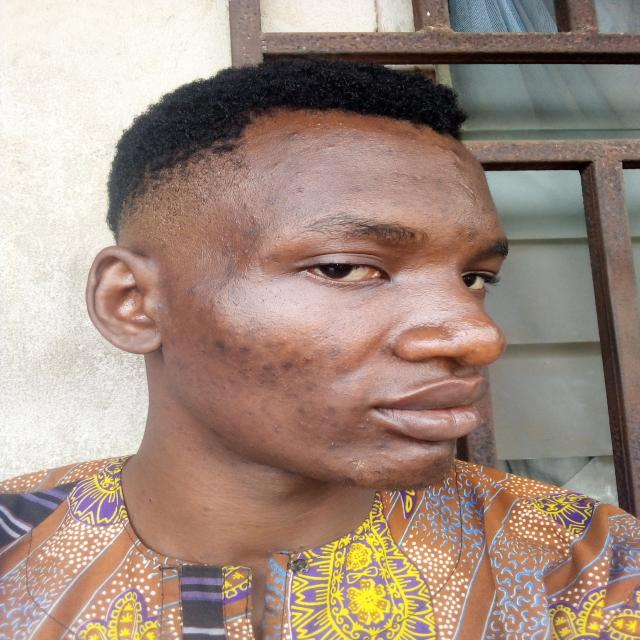Acne: (235, 210, 283, 236), (254, 355, 311, 373), (434, 142, 465, 172), (208, 338, 256, 356), (456, 179, 484, 208), (218, 360, 255, 379), (254, 372, 290, 389), (238, 314, 267, 335), (218, 283, 245, 304), (260, 337, 292, 354), (340, 455, 372, 471), (366, 437, 396, 452), (181, 284, 203, 304), (457, 225, 481, 241), (202, 295, 218, 318), (315, 403, 341, 417), (378, 337, 395, 358), (341, 184, 366, 198), (302, 379, 322, 396), (315, 437, 339, 451), (262, 419, 284, 434), (323, 344, 343, 360), (284, 129, 310, 141), (257, 194, 279, 208), (255, 394, 274, 410), (280, 161, 300, 176), (482, 212, 497, 232), (288, 403, 306, 418), (226, 264, 242, 279), (209, 404, 224, 417), (433, 455, 449, 465), (400, 176, 424, 182), (335, 119, 350, 128), (292, 187, 307, 194), (316, 119, 327, 127), (410, 134, 417, 143)
Englarged-Pores: (291, 319, 361, 343)
